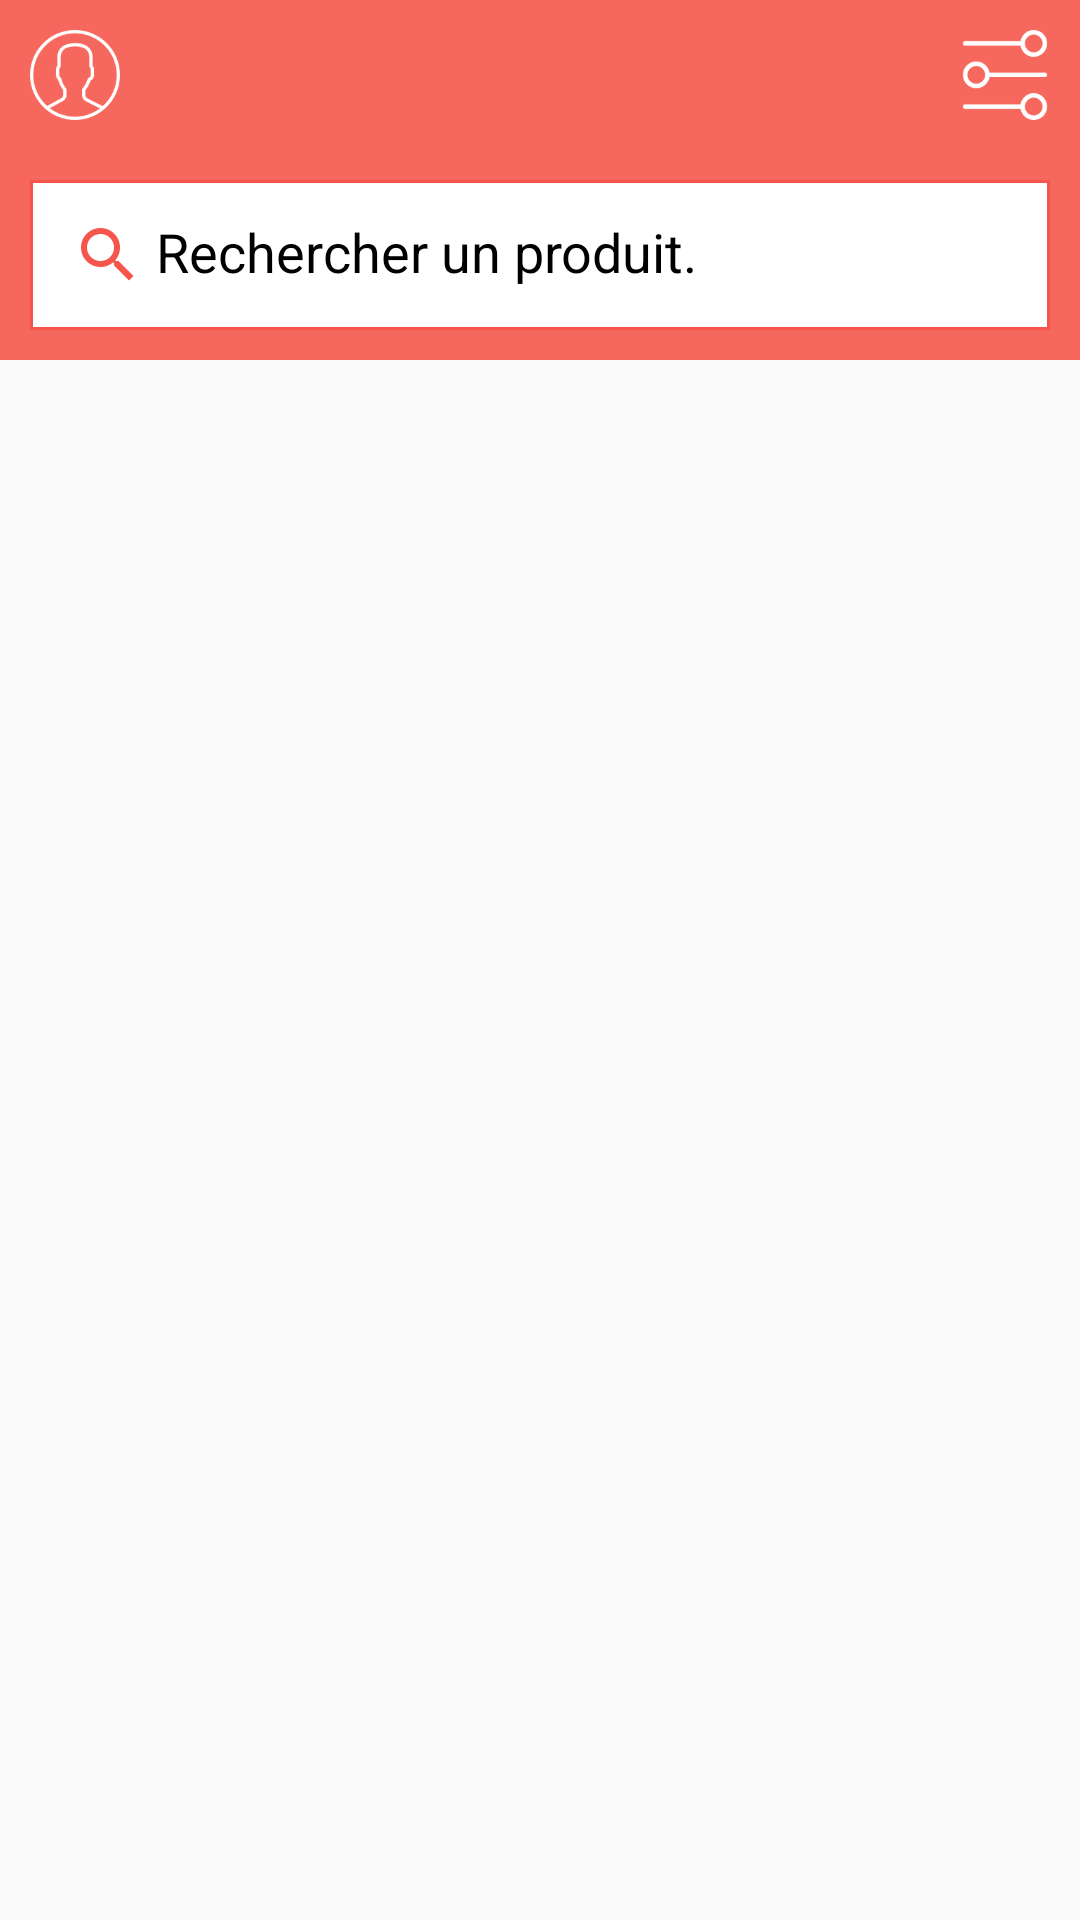

Locate icon controls on the screen. Image size 1080x1920, boxes as (left=x1, top=y1, right=x2, bottom=y2).
profil: (left=30, top=30, right=120, bottom=120)
settings: (left=963, top=30, right=1047, bottom=120)
